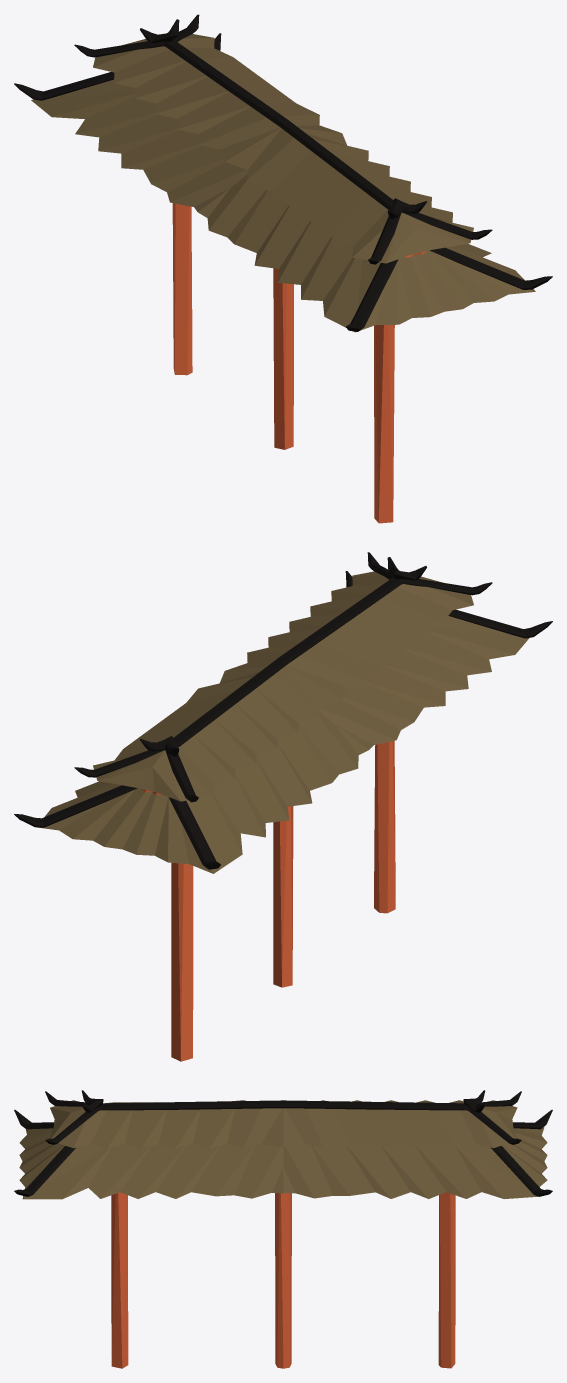
File: gazebo_roof.glb
3 views of the same model, one above another, from view 1: azimuth 30°, elevation 25°; view 2: azimuth 150°, elevation 25°; view 3: azimuth 270°, elevation 25° (orthographic). The views are drawn at different scales.
Parts seen in each view (by area): view 1: gazebo.002, gazebo.001, gazebo_roof_spikes.004, gazebo_roof_spikes.003, gazebo_roof_spikes.005; view 2: gazebo.002, gazebo.001, gazebo_roof_spikes.004, gazebo_roof_spikes.003, gazebo_roof_spikes.005; view 3: gazebo.002, gazebo.001, gazebo_roof_spikes.004, gazebo_roof_spikes.003, gazebo_roof_spikes.005.
Part boxes in pixels (x1,y1,x2,y2): gazebo.002: [31, 34, 535, 332]; gazebo.001: [172, 203, 426, 523]; gazebo_roof_spikes.004: [74, 14, 492, 264]; gazebo_roof_spikes.003: [14, 33, 552, 331]; gazebo_roof_spikes.005: [140, 19, 426, 218]; gazebo.002: [37, 571, 529, 873]; gazebo.001: [141, 740, 395, 1061]; gazebo_roof_spikes.004: [74, 552, 492, 802]; gazebo_roof_spikes.003: [14, 571, 552, 869]; gazebo_roof_spikes.005: [140, 557, 426, 756]; gazebo.002: [19, 1100, 547, 1199]; gazebo.001: [111, 1192, 455, 1368]; gazebo_roof_spikes.004: [45, 1091, 521, 1144]; gazebo_roof_spikes.003: [14, 1109, 552, 1196]; gazebo_roof_spikes.005: [81, 1090, 485, 1112].
Bounding box in the file's own units: 6.22 × 9.49 × 17.32.
